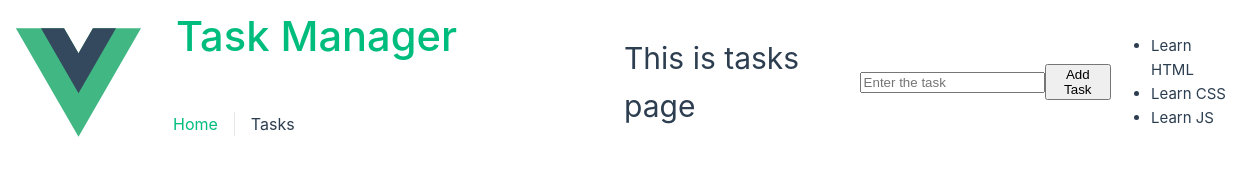
Scenario: Tasks › Add new Task
Type "Learn VueJS" into the field named "taskTitle" at [953, 83], box x1=860 y1=72 x2=1045 y2=93
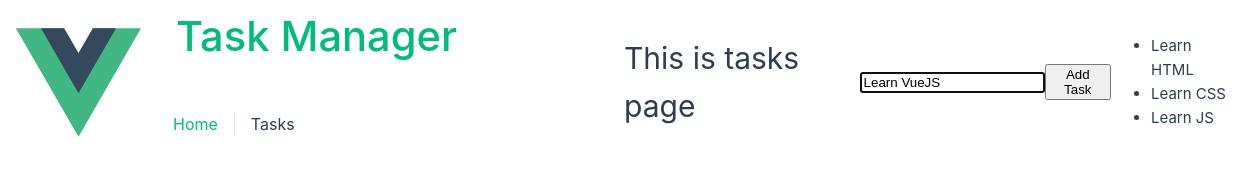
Click the button "Add Task" at [1078, 82], box x1=1045 y1=64 x2=1111 y2=100
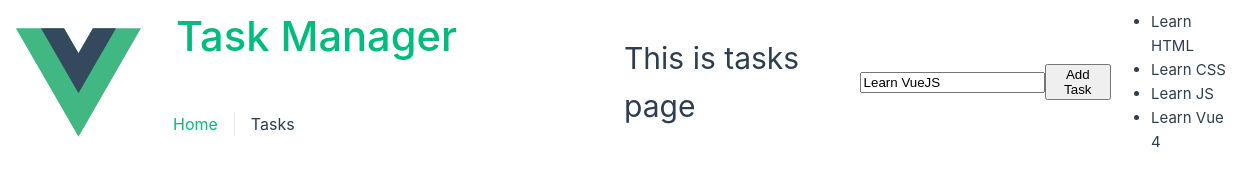
Expected: the list item "Learn Vue 4" is shown, x1=1151 y1=106 x2=1232 y2=154
